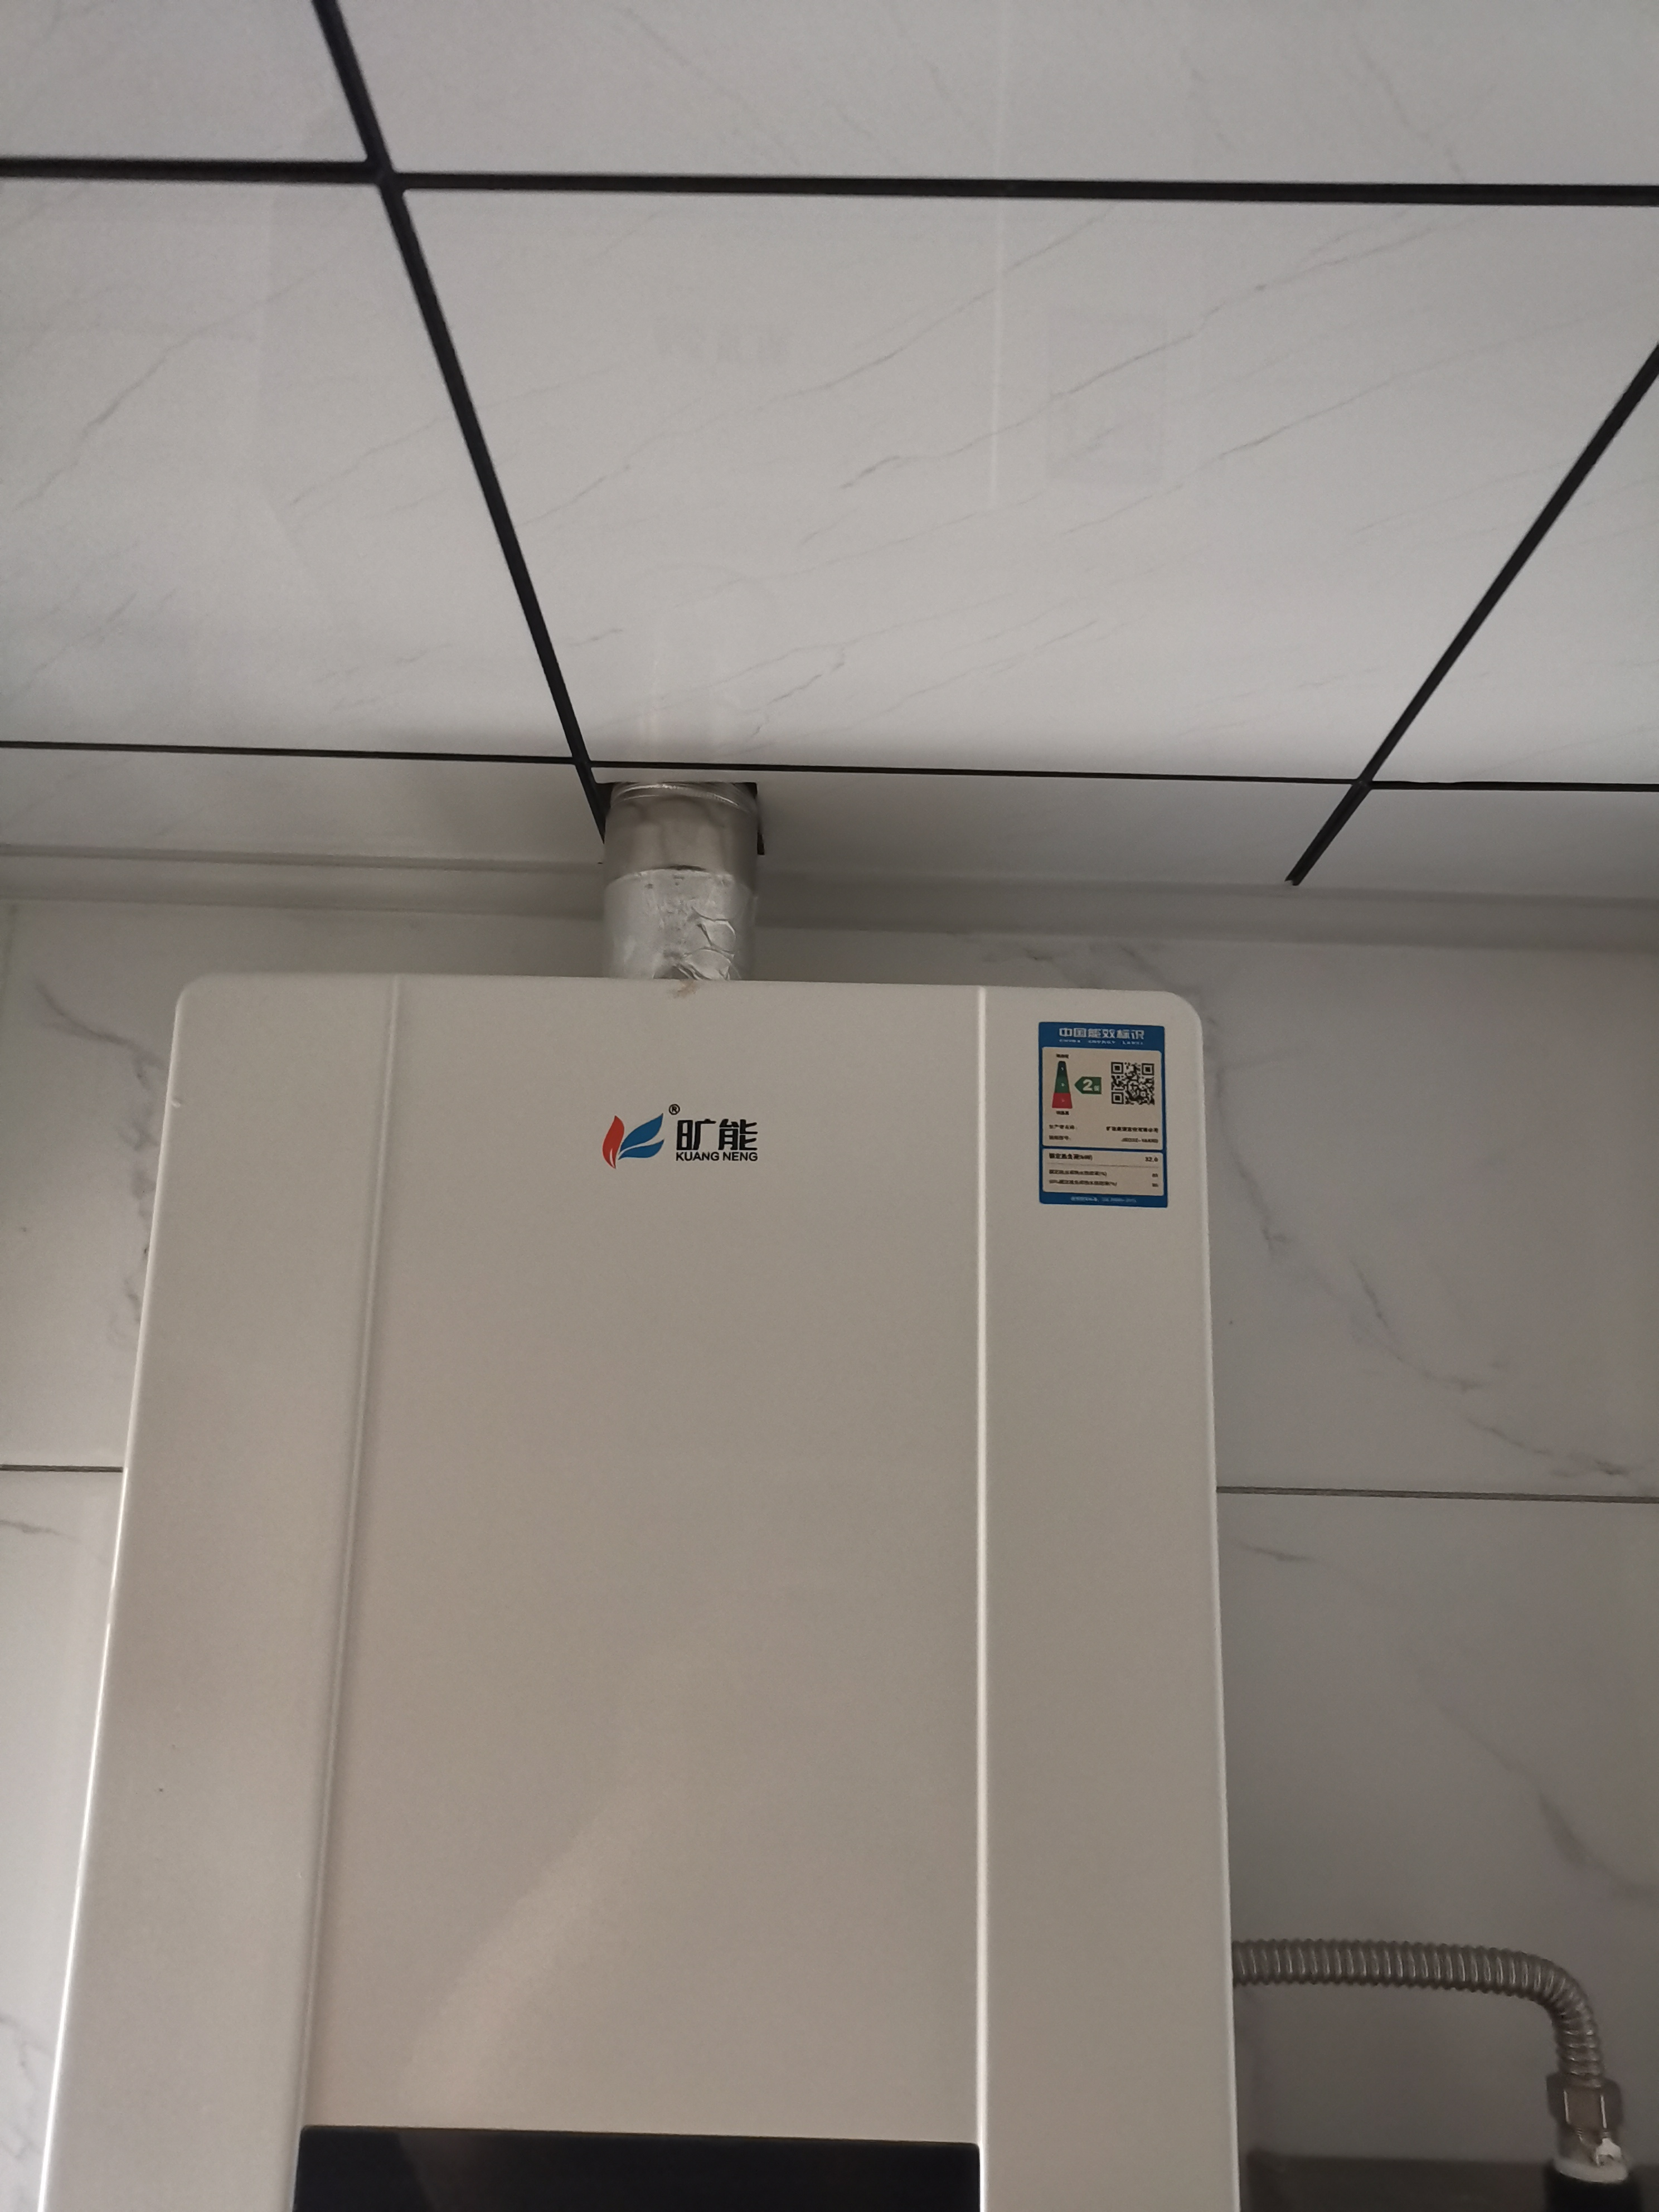loudou: (580, 1092, 774, 1183)
